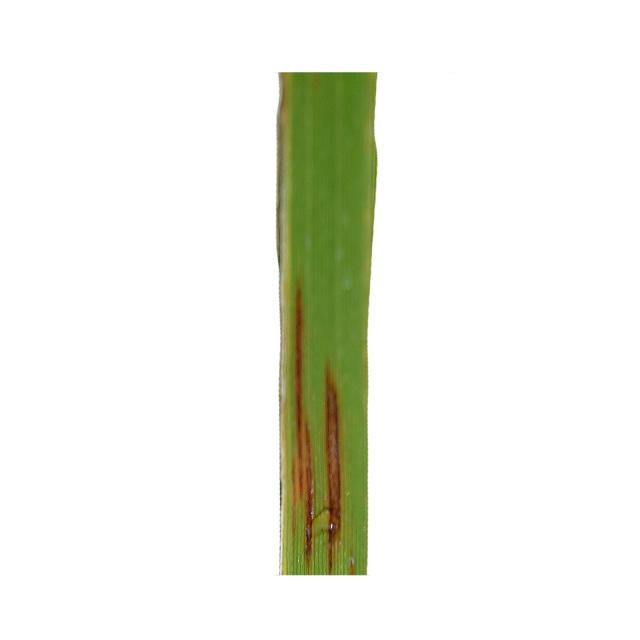Narrow brown: (246, 53, 394, 604)
